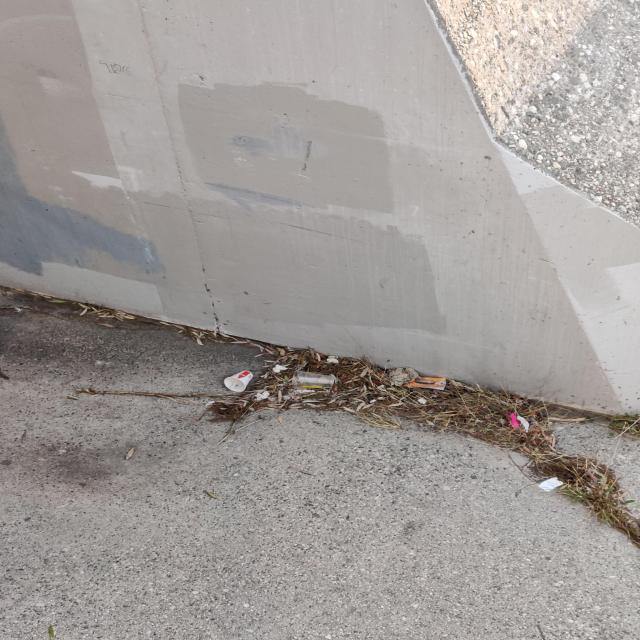litter: (292, 370, 335, 388), (388, 367, 419, 386), (224, 371, 253, 391), (406, 377, 445, 389), (539, 476, 563, 492), (517, 416, 530, 430), (509, 413, 519, 427)
